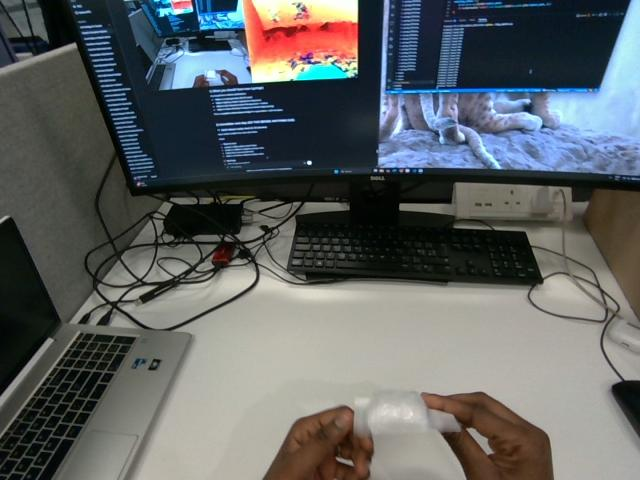gauze: (354, 390, 460, 435)
